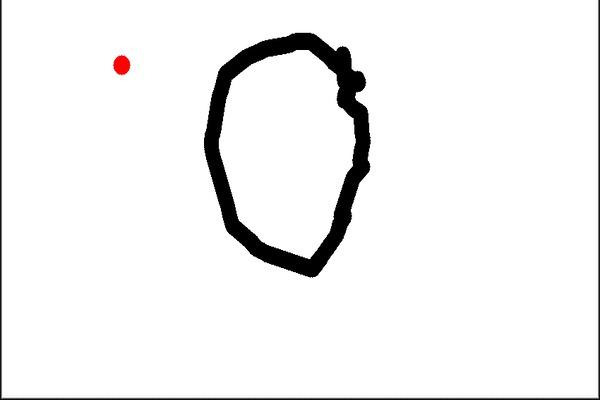O: (191, 23, 382, 289)
